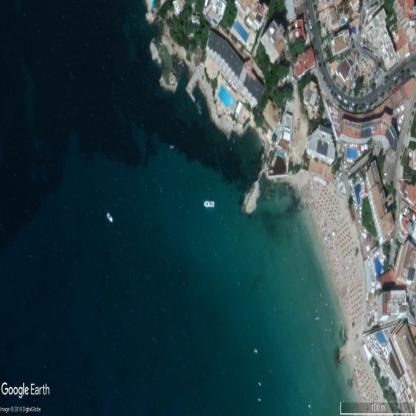ship: (204, 200, 214, 208), (107, 212, 113, 223), (170, 144, 174, 149)
